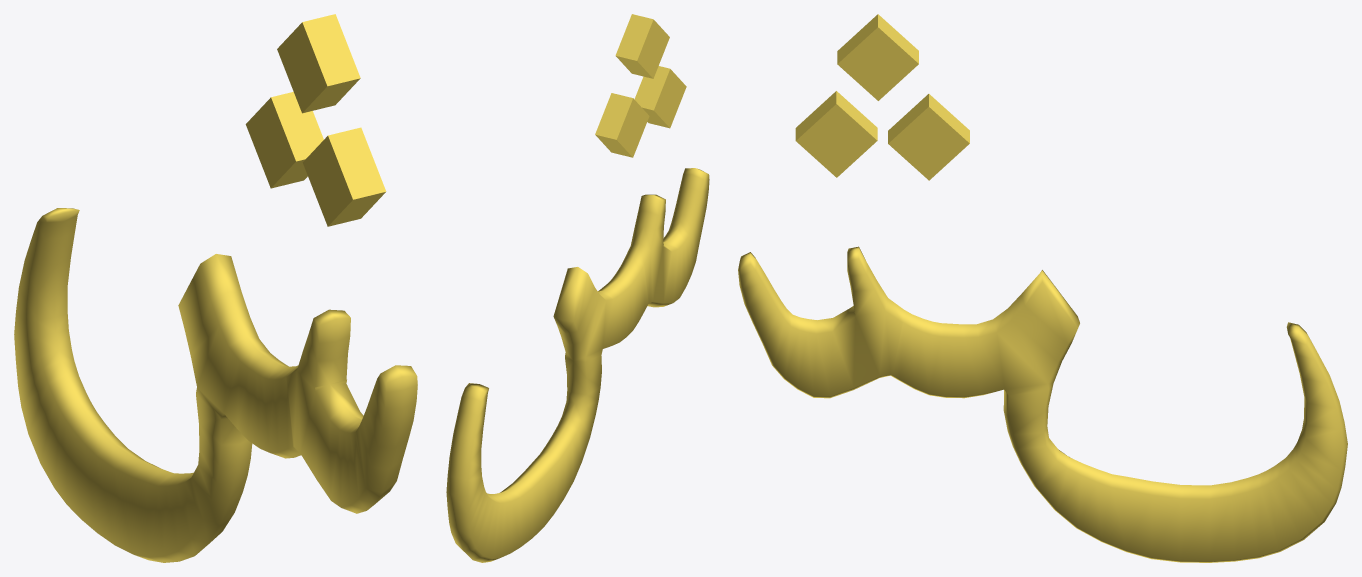
File: ssin.FBX
3 renders of one model, left to right at view 1: azimuth 30°, elevation 25°; view 2: azimuth 150°, elevation 25°; view 3: azimuth 270°, elevation 25°, orthographic. The views are drawn at different scales.
Visible parts, largest first — view 1: ssin; view 2: ssin; view 3: ssin.
Boxes of the visible parts, bbox=[...] form: ssin: bbox=[14, 14, 417, 562]; ssin: bbox=[446, 14, 709, 562]; ssin: bbox=[738, 14, 1347, 562].
Bounding box in the file's own units: 16.02 × 299 × 294.
Materials: 1 (1 with a texture image).
